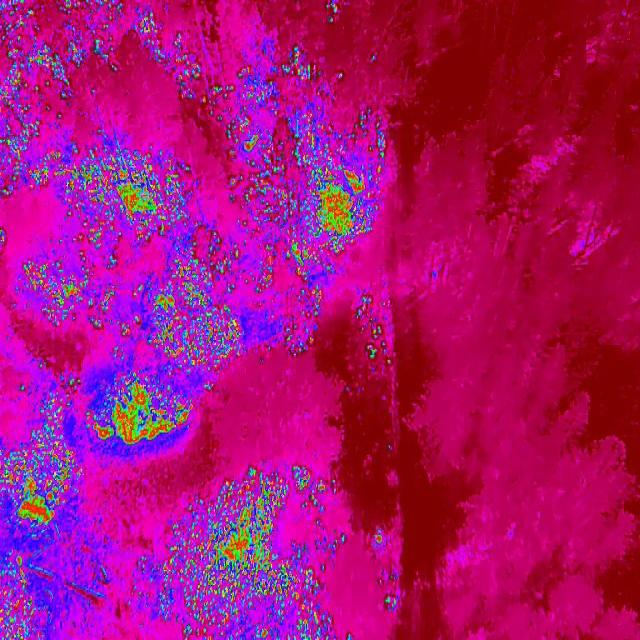fire: (148, 465, 360, 640), (1, 2, 206, 106), (288, 116, 388, 278), (136, 256, 246, 376), (73, 150, 192, 246), (87, 370, 205, 456), (24, 258, 126, 332), (1, 448, 81, 534), (2, 108, 71, 202), (281, 280, 337, 365), (353, 292, 401, 369), (0, 555, 42, 640), (219, 85, 284, 134), (39, 378, 90, 439), (378, 572, 406, 630), (280, 47, 322, 85), (258, 243, 284, 296), (236, 62, 256, 80), (240, 138, 260, 154), (326, 0, 342, 14), (0, 228, 9, 243), (374, 533, 384, 546)
